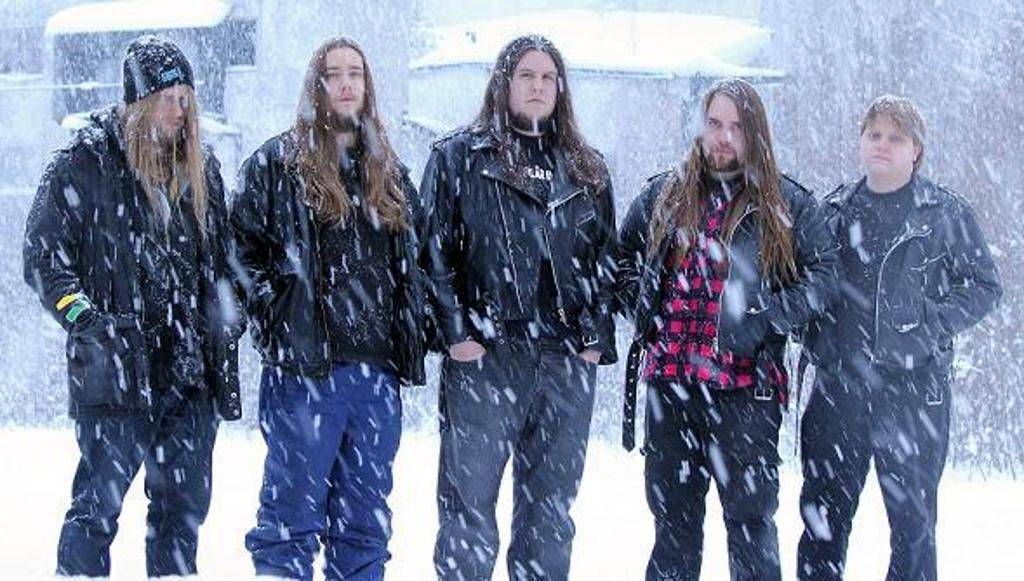face: (700, 88, 758, 168), (318, 44, 374, 118), (510, 50, 566, 124), (146, 66, 198, 144), (860, 108, 916, 180)
